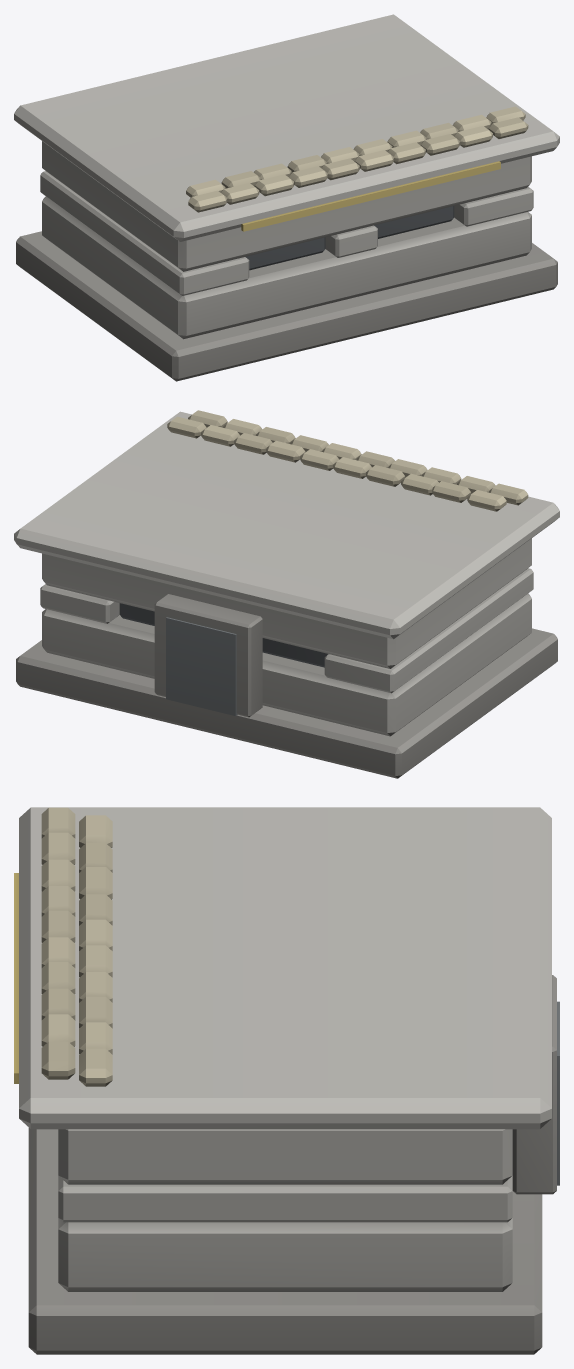
The model's file is mil_bunker.glb.
3 renders of one model, top to bottom at view 1: azimuth 30°, elevation 25°; view 2: azimuth 150°, elevation 25°; view 3: azimuth 270°, elevation 25°, orthographic. The views are drawn at different scales.
Visible parts, largest first — view 1: mil_bunker; view 2: mil_bunker; view 3: mil_bunker.
Boxes of the visible parts, x1=… form: mil_bunker: x1=14, y1=14, x2=559, y2=381; mil_bunker: x1=14, y1=410, x2=559, y2=778; mil_bunker: x1=14, y1=807, x2=559, y2=1354.
Size of the model in its own units: 7.2 by 3.05 by 5.53.
